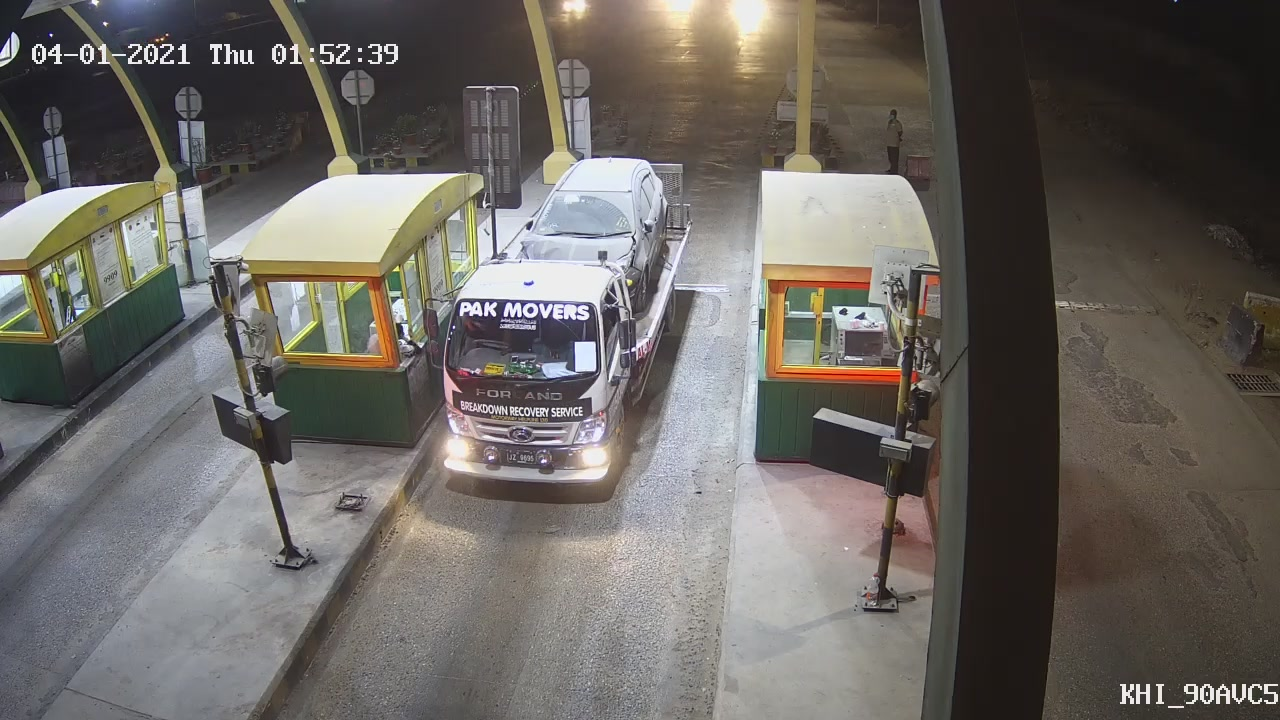F5: (422, 151, 695, 502)
